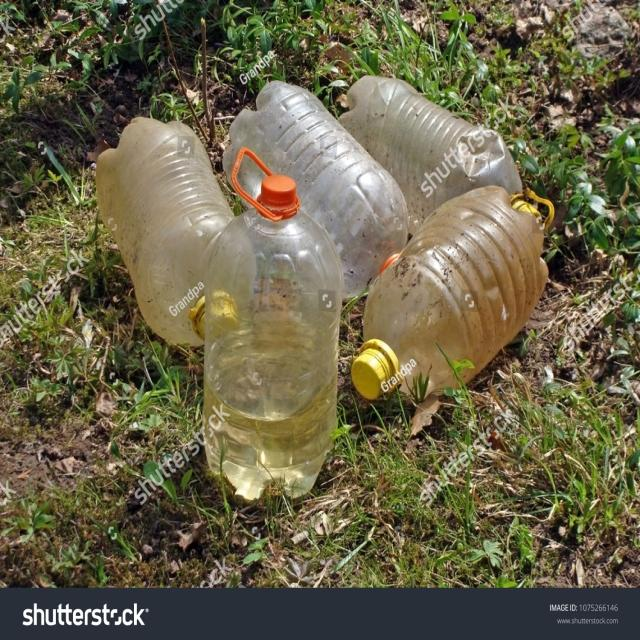plastic_bottle: (201, 147, 344, 501)
